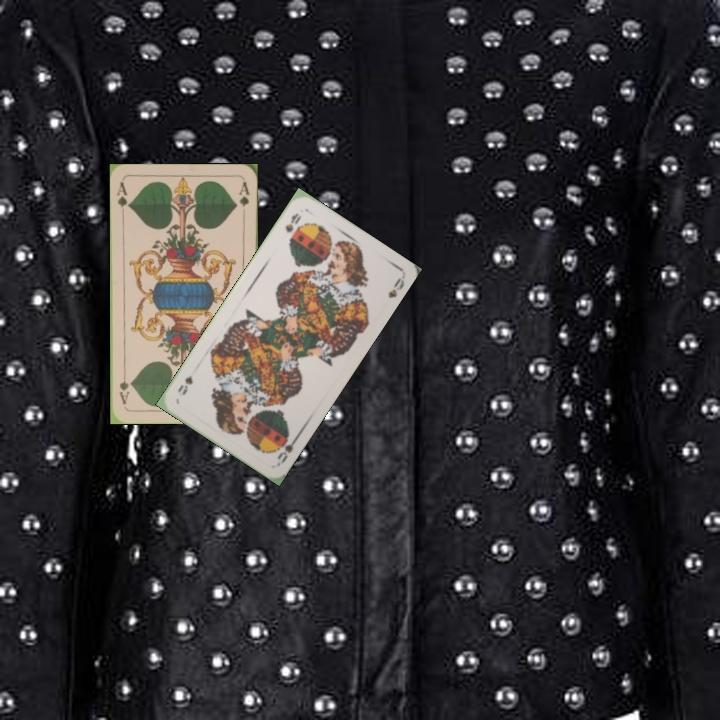GA: (113, 179, 132, 219)
SO: (273, 430, 302, 467), (281, 209, 304, 236)
